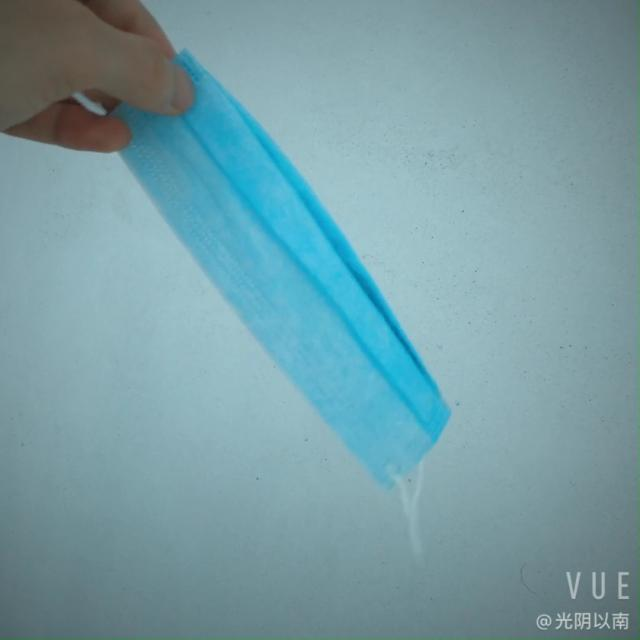face mask: (82, 56, 460, 512)
